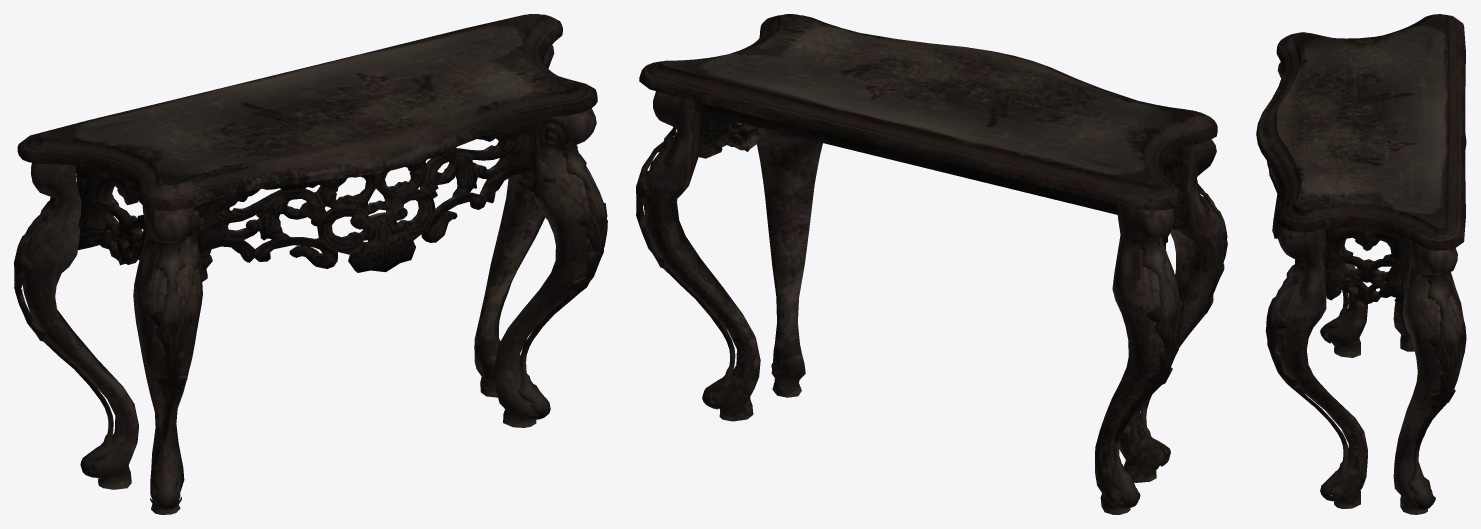
File: ClassicConsole_01.glb
3 renders of one model, left to right at view 1: azimuth 30°, elevation 25°; view 2: azimuth 150°, elevation 25°; view 3: azimuth 270°, elevation 25°, orthographic. The views are drawn at different scales.
Parts seen in each view (by area): view 1: ClassicConsole_01; view 2: ClassicConsole_01; view 3: ClassicConsole_01.
Part boxes in pixels (<box>): ClassicConsole_01: <box>14,14,607,514</box>; ClassicConsole_01: <box>636,14,1227,514</box>; ClassicConsole_01: <box>1256,14,1466,514</box>.
Bounding box in the file's own units: 1.54 × 0.9491 × 0.5892.
1 material, 1 textured.
